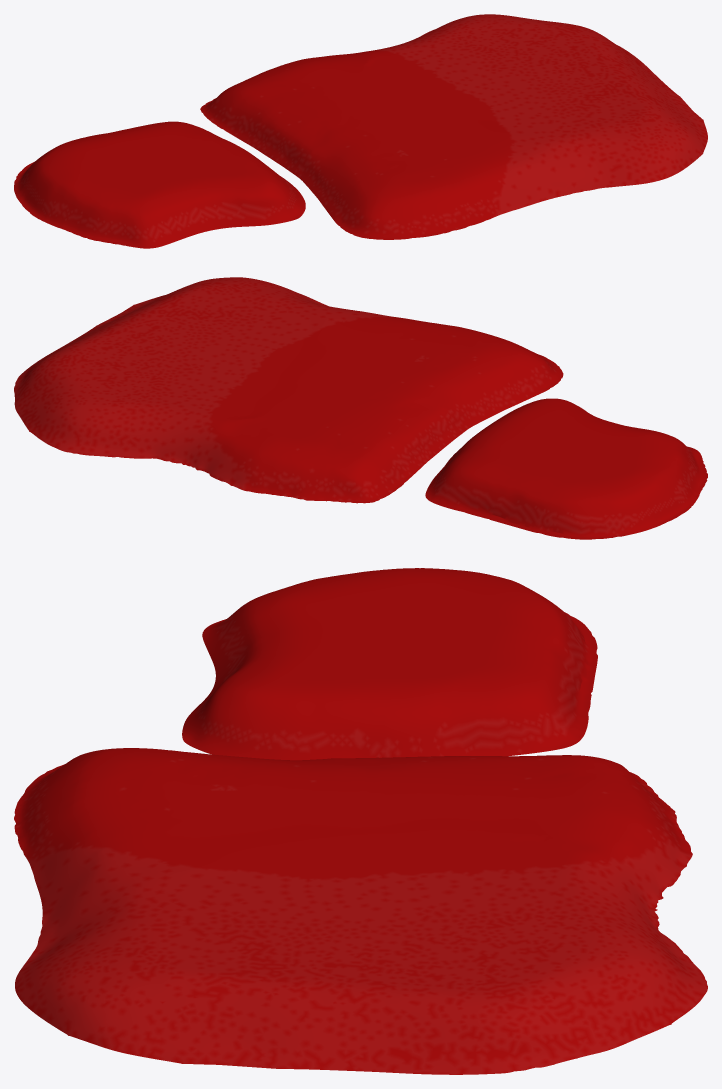
The model's file is Map.fbx.
The picture shows the model from 3 angles, top to bottom: view 1: azimuth 30°, elevation 25°; view 2: azimuth 150°, elevation 25°; view 3: azimuth 270°, elevation 25°; orthographic projection. The views are drawn at different scales.
Visible parts, largest first — view 1: Map_01; view 2: Map_01; view 3: Map_01.
Boxes of the visible parts, x1,y1,x2,y2 form: Map_01: [14, 14, 707, 248]; Map_01: [14, 277, 707, 539]; Map_01: [14, 568, 707, 1074].
Size of the model in its own units: 7606 by 12698 by 564.
